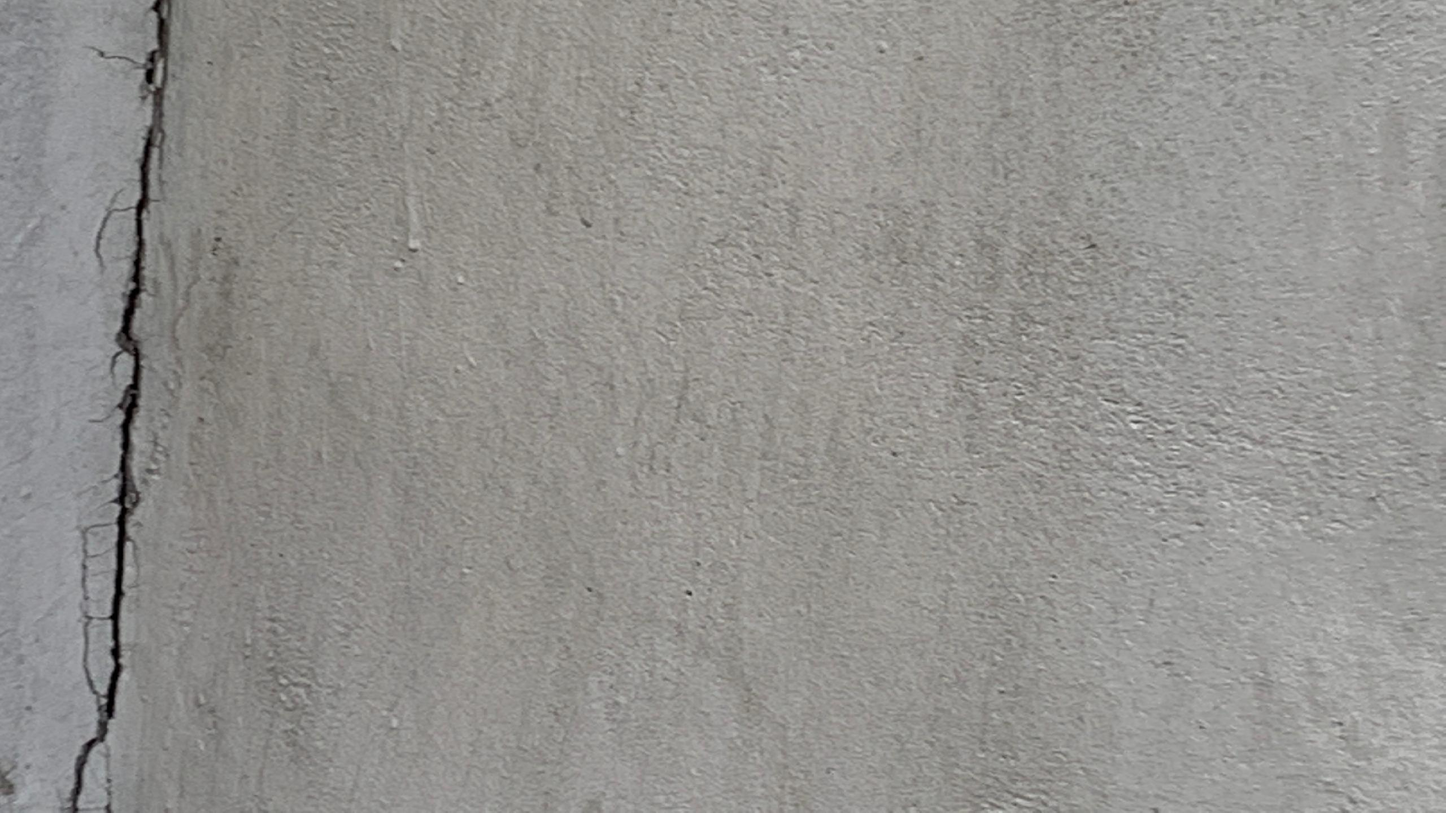crack: (67, 0, 171, 812)
